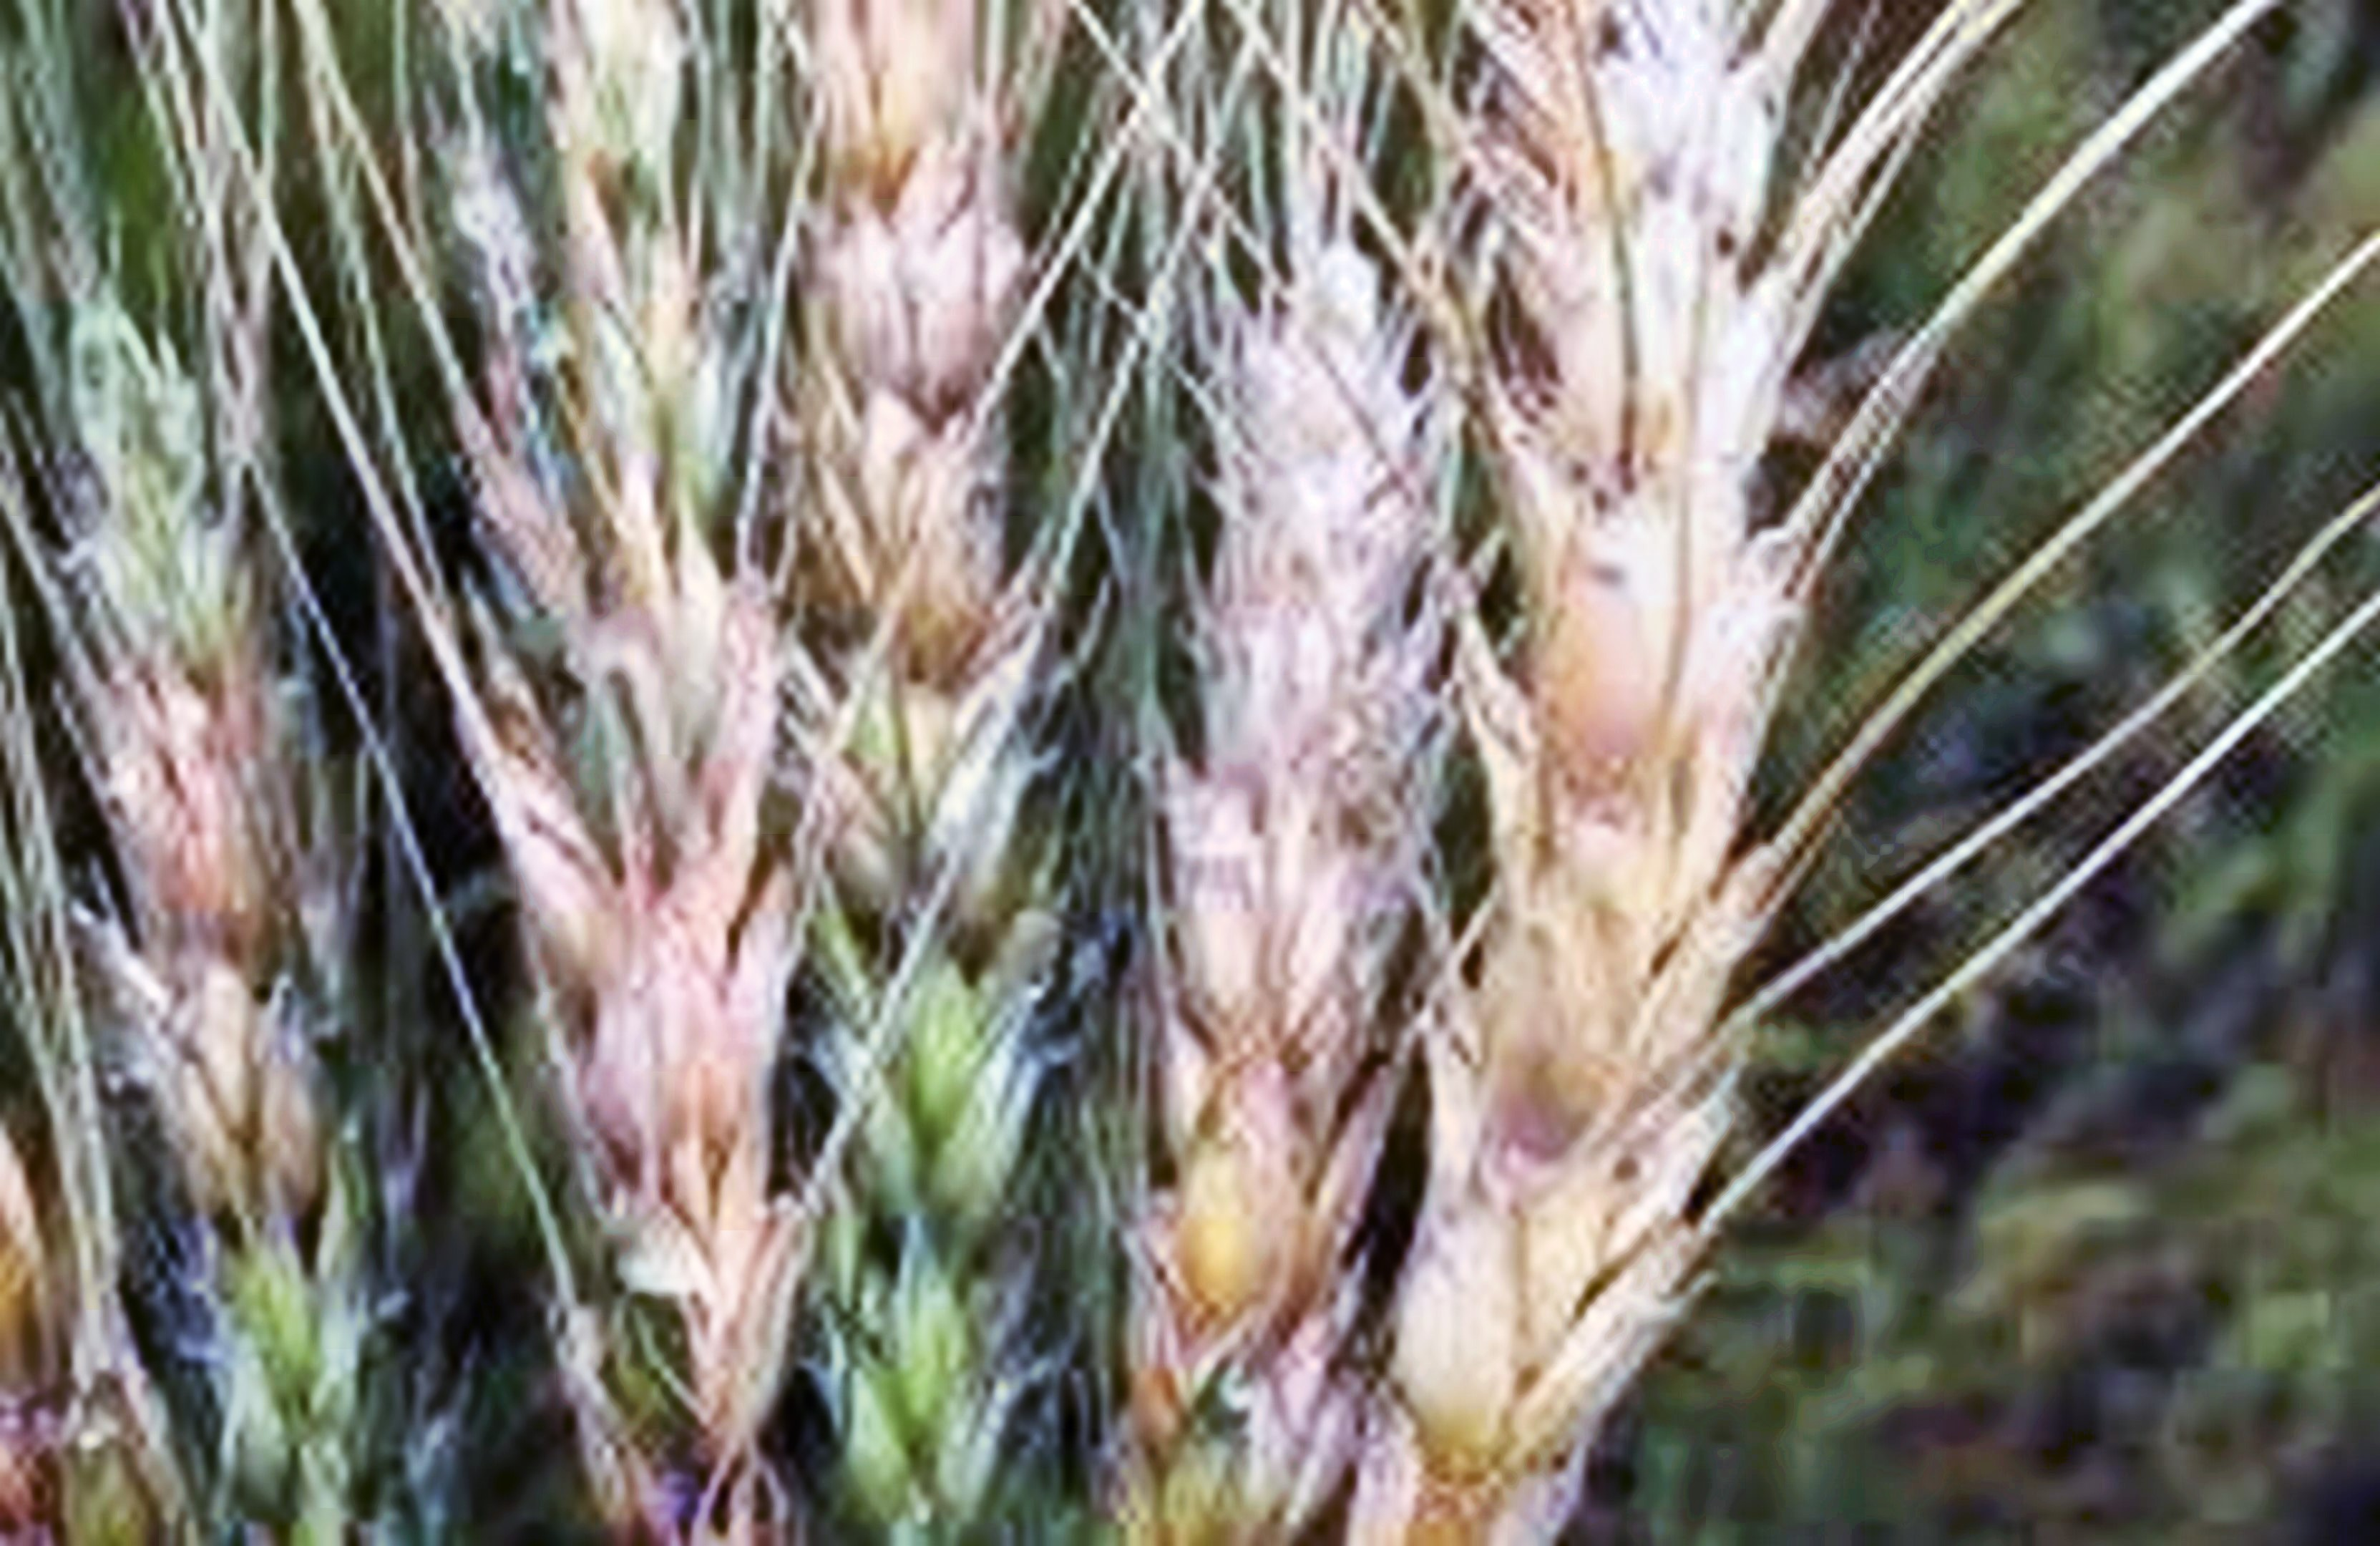Wheat scab: (23, 312, 415, 1477)
